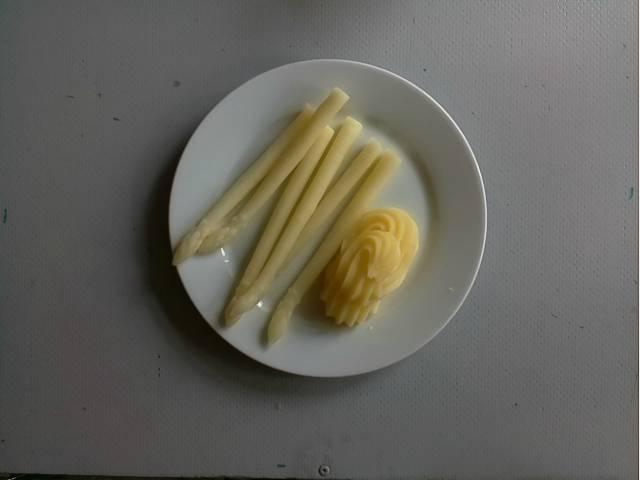Asparagus + mashed potatoes: (170, 88, 419, 351)
